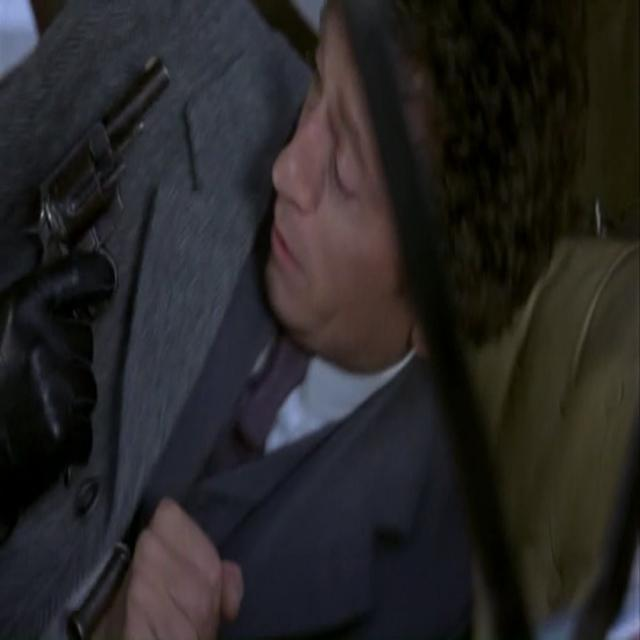gun-knife-thesis - v11 Yolov5 augmented: (24, 52, 179, 442)
